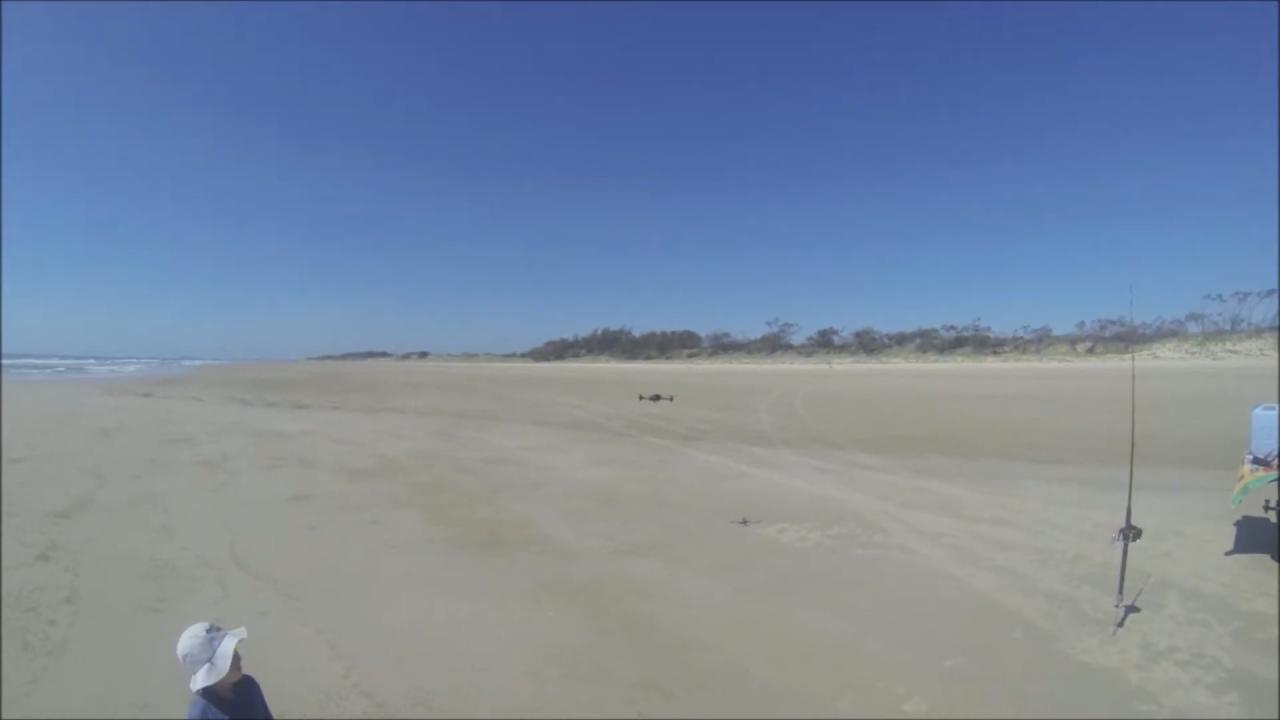Drone: (630, 382, 682, 414)
